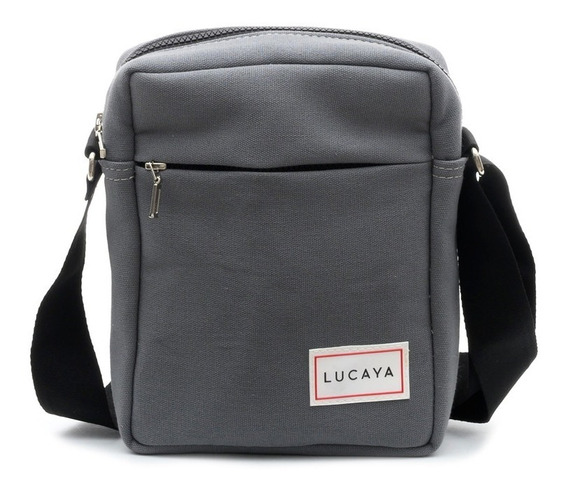cartera: (29, 23, 541, 459)
